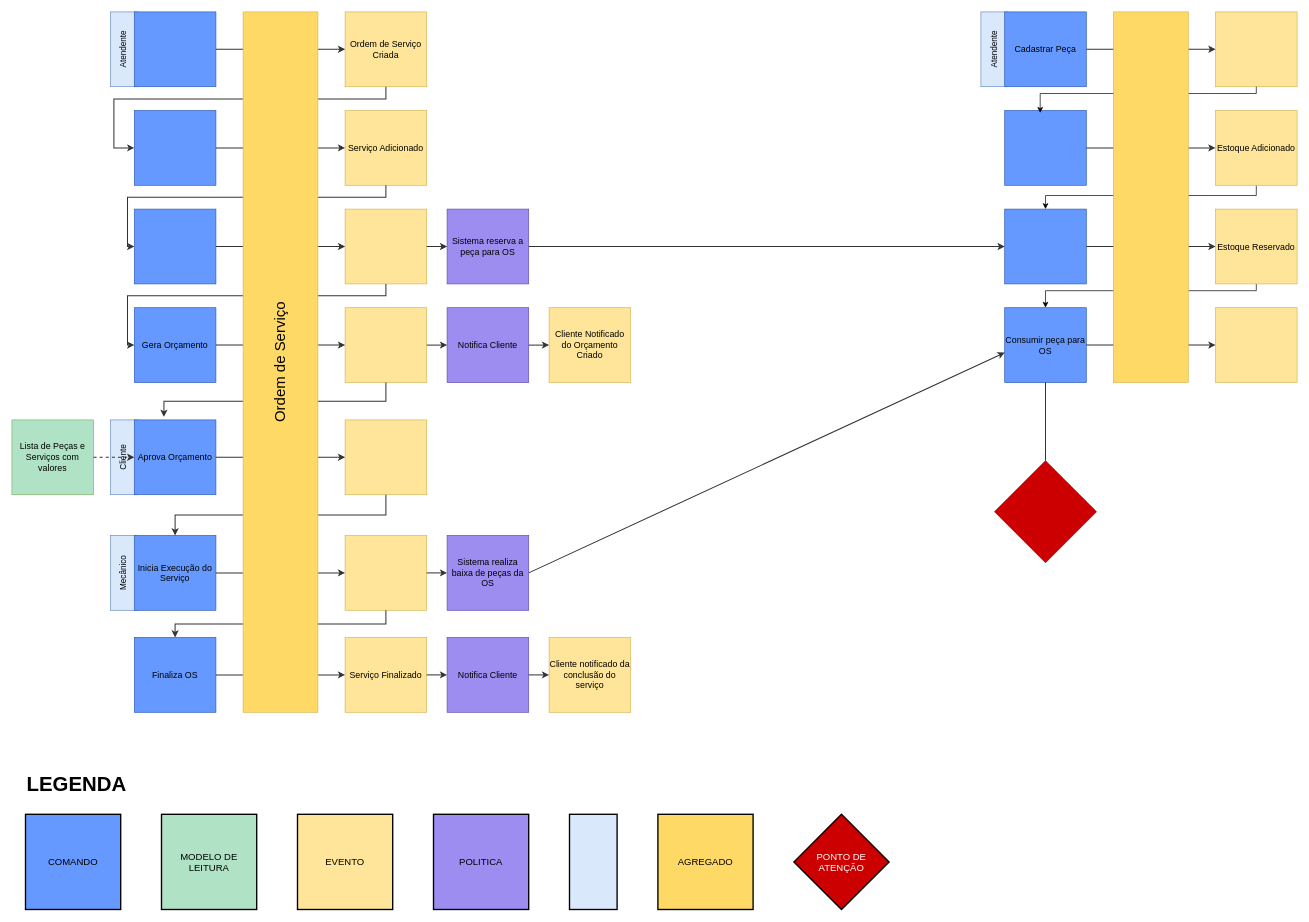
This 1309x922 diagram has some shape labels left out. The shapes that lost their labels are listed below. From the top down, each one's centre as x and y in pixels, then its label:
the point at 175,49: Criar Ordem de Serviço
the point at 1256,49: Peça Cadastrada
the point at 175,147: Adiciona Serviço
the point at 1045,147: Realiza entrada de Peças
the point at 1150,196: Estoque
the point at 175,246: Adiciona Peça
the point at 385,246: Peça Adicionada
the point at 1045,246: Reserva Peça
the point at 385,344: Orçamento Gerado
the point at 1256,344: Estoque "decrementado"
the point at 385,457: Orçamento Aprovado
the point at 1045,511: Estoque não pode ser negativo
the point at 385,572: Execução Iniciada
the point at 592,861: ATOR
